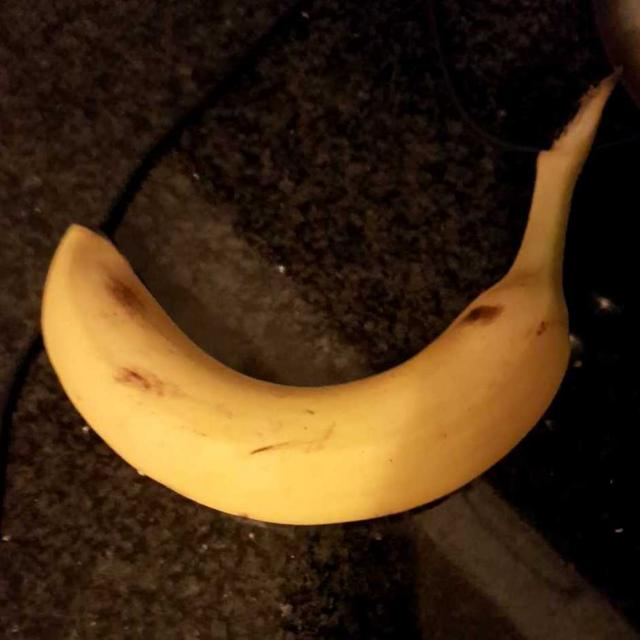banana: (27, 78, 597, 533)
